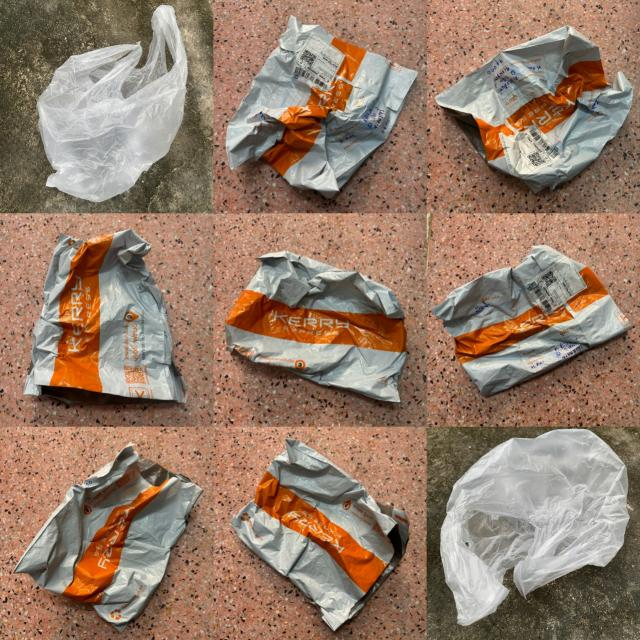Single-layer Plastic: (441, 429, 629, 625), (226, 16, 418, 198), (15, 445, 202, 631), (231, 439, 409, 630), (436, 26, 632, 192), (431, 245, 631, 395), (38, 5, 188, 201), (24, 230, 188, 403), (225, 251, 406, 402)
